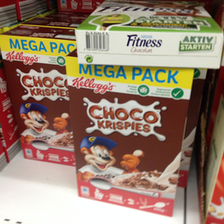cereal: (65, 57, 194, 217), (1, 25, 76, 165)
